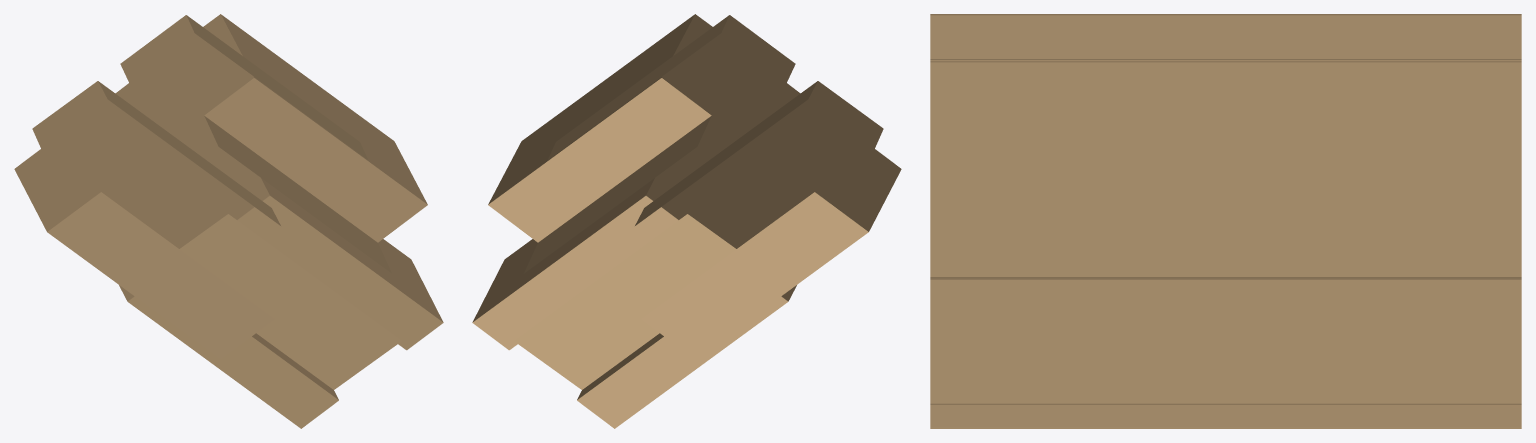
The picture shows the model from 3 angles, left to right: view 1: azimuth 30°, elevation 25°; view 2: azimuth 150°, elevation 25°; view 3: azimuth 270°, elevation 25°; orthographic projection. The views are drawn at different scales.
Parts seen in each view (by area): view 1: 0_1_0_2_2_1_2_1_0; view 2: 0_1_0_2_2_1_2_1_0; view 3: 0_1_0_2_2_1_2_1_0.
Part boxes in pixels (box(x1,y1,x2,y2)): 0_1_0_2_2_1_2_1_0: box(14, 14, 443, 428); 0_1_0_2_2_1_2_1_0: box(472, 14, 901, 428); 0_1_0_2_2_1_2_1_0: box(930, 14, 1521, 428).
Bounding box in the file's own units: 22.93 × 23.37 × 27.
